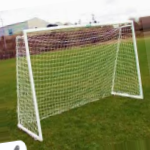goals: (14, 18, 146, 143)
